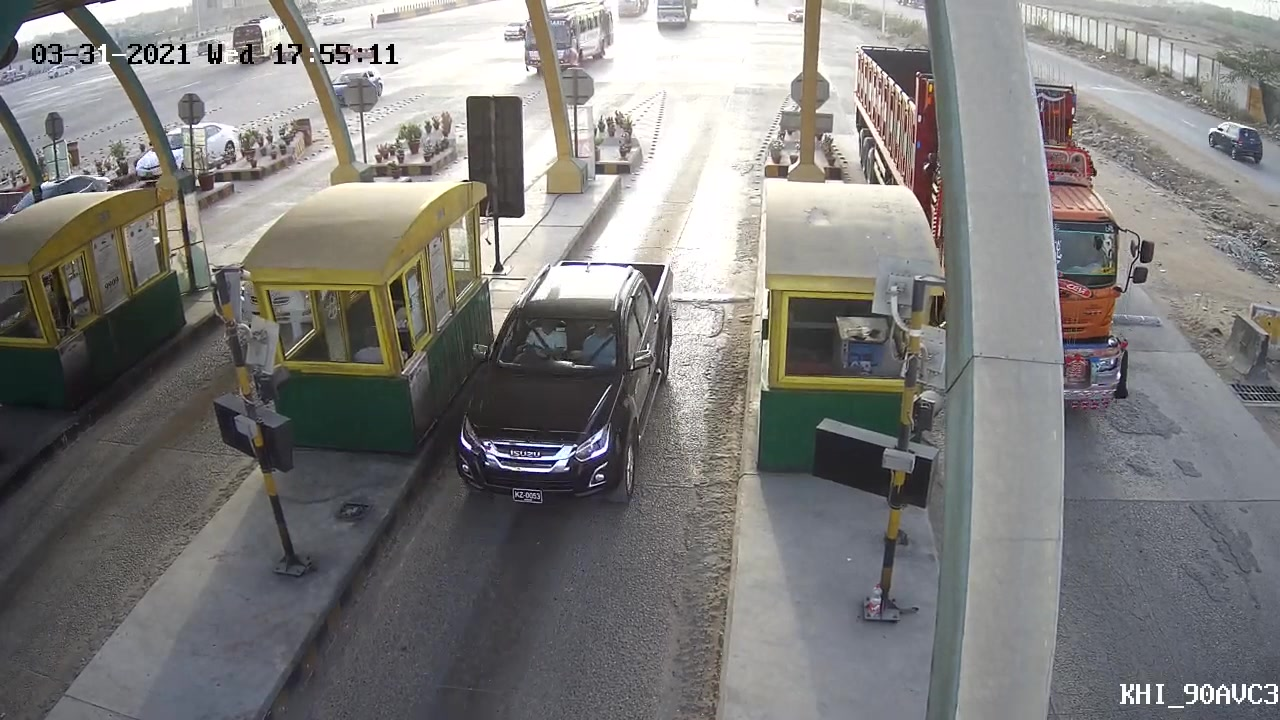F1: (447, 254, 690, 515)
